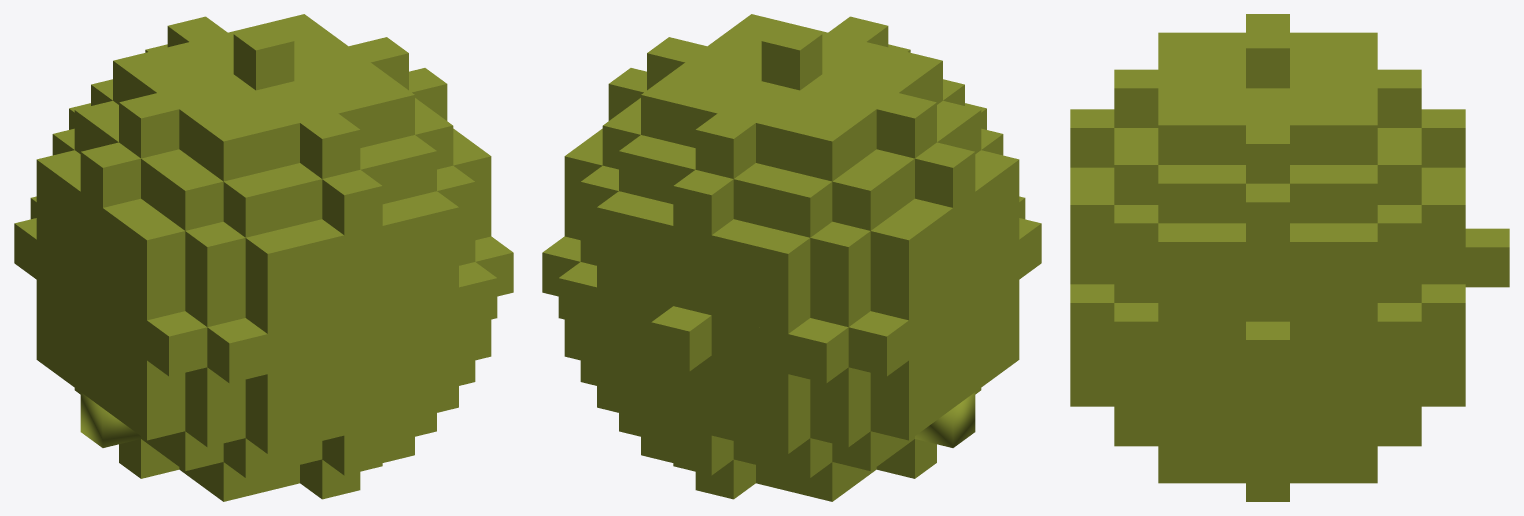
The model's file is Bush.fbx.
3 views of the same model, side by side, from view 1: azimuth 30°, elevation 25°; view 2: azimuth 150°, elevation 25°; view 3: azimuth 270°, elevation 25° (orthographic).
Parts seen in each view (by area): view 1: Bush:cube_125, Bush:cube_119, Bush:cube_67, Bush:cube_69, Bush:cube_12, Bush:cube_24, Bush:cube_29, Bush:cube_39, Bush:cube_43, Bush:cube_45, Bush:cube_65, Bush:cube_49 (+101 smaller); view 2: Bush:cube_125, Bush:cube_112, Bush:cube_124, Bush:cube_68, Bush:cube_73, Bush:cube_18, Bush:cube_28, Bush:cube_29, Bush:cube_40, Bush:cube_44, Bush:cube_48, Bush:cube_66 (+101 smaller); view 3: Bush:cube_112, Bush:cube_117, Bush:cube_118, Bush:cube_165, Bush:cube_166, Bush:cube_183, Bush:cube_184, Bush:cube_216, Bush:cube_119, Bush:cube_124, Bush:cube_167, Bush:cube_168 (+86 smaller).
Boxes of the visible parts, <box> form: Bush:cube_125: <box>233,25,294,90</box>; Bush:cube_119: <box>300,113,360,178</box>; Bush:cube_67: <box>223,172,283,237</box>; Bush:cube_69: <box>201,116,261,181</box>; Bush:cube_12: <box>147,311,207,376</box>; Bush:cube_24: <box>125,215,185,280</box>; Bush:cube_29: <box>80,142,140,207</box>; Bush:cube_39: <box>207,318,267,383</box>; Bush:cube_43: <box>185,221,245,286</box>; Bush:cube_45: <box>163,165,223,230</box>; Bush:cube_65: <box>245,228,305,293</box>; Bush:cube_49: <box>119,93,179,158</box>; Bush:cube_125: <box>761,25,822,90</box>; Bush:cube_112: <box>651,306,711,371</box>; Bush:cube_124: <box>695,113,755,178</box>; Bush:cube_68: <box>772,172,832,237</box>; Bush:cube_73: <box>794,116,854,181</box>; Bush:cube_18: <box>848,311,908,376</box>; Bush:cube_28: <box>870,215,930,280</box>; Bush:cube_29: <box>915,142,975,207</box>; Bush:cube_40: <box>788,318,848,383</box>; Bush:cube_44: <box>810,221,870,286</box>; Bush:cube_48: <box>832,165,892,230</box>; Bush:cube_66: <box>750,228,810,293</box>; Bush:cube_112: <box>1465,228,1509,287</box>; Bush:cube_117: <box>1070,109,1114,167</box>; Bush:cube_118: <box>1421,109,1465,167</box>; Bush:cube_165: <box>1070,186,1114,244</box>; Bush:cube_166: <box>1421,186,1465,244</box>; Bush:cube_183: <box>1070,284,1114,342</box>; Bush:cube_184: <box>1421,284,1465,342</box>; Bush:cube_216: <box>1158,223,1202,281</box>; Bush:cube_119: <box>1114,69,1158,127</box>; Bush:cube_124: <box>1377,69,1421,127</box>; Bush:cube_167: <box>1114,146,1158,204</box>; Bush:cube_168: <box>1377,146,1421,204</box>.
Size of the model in its own units: 10 by 10 by 10.
